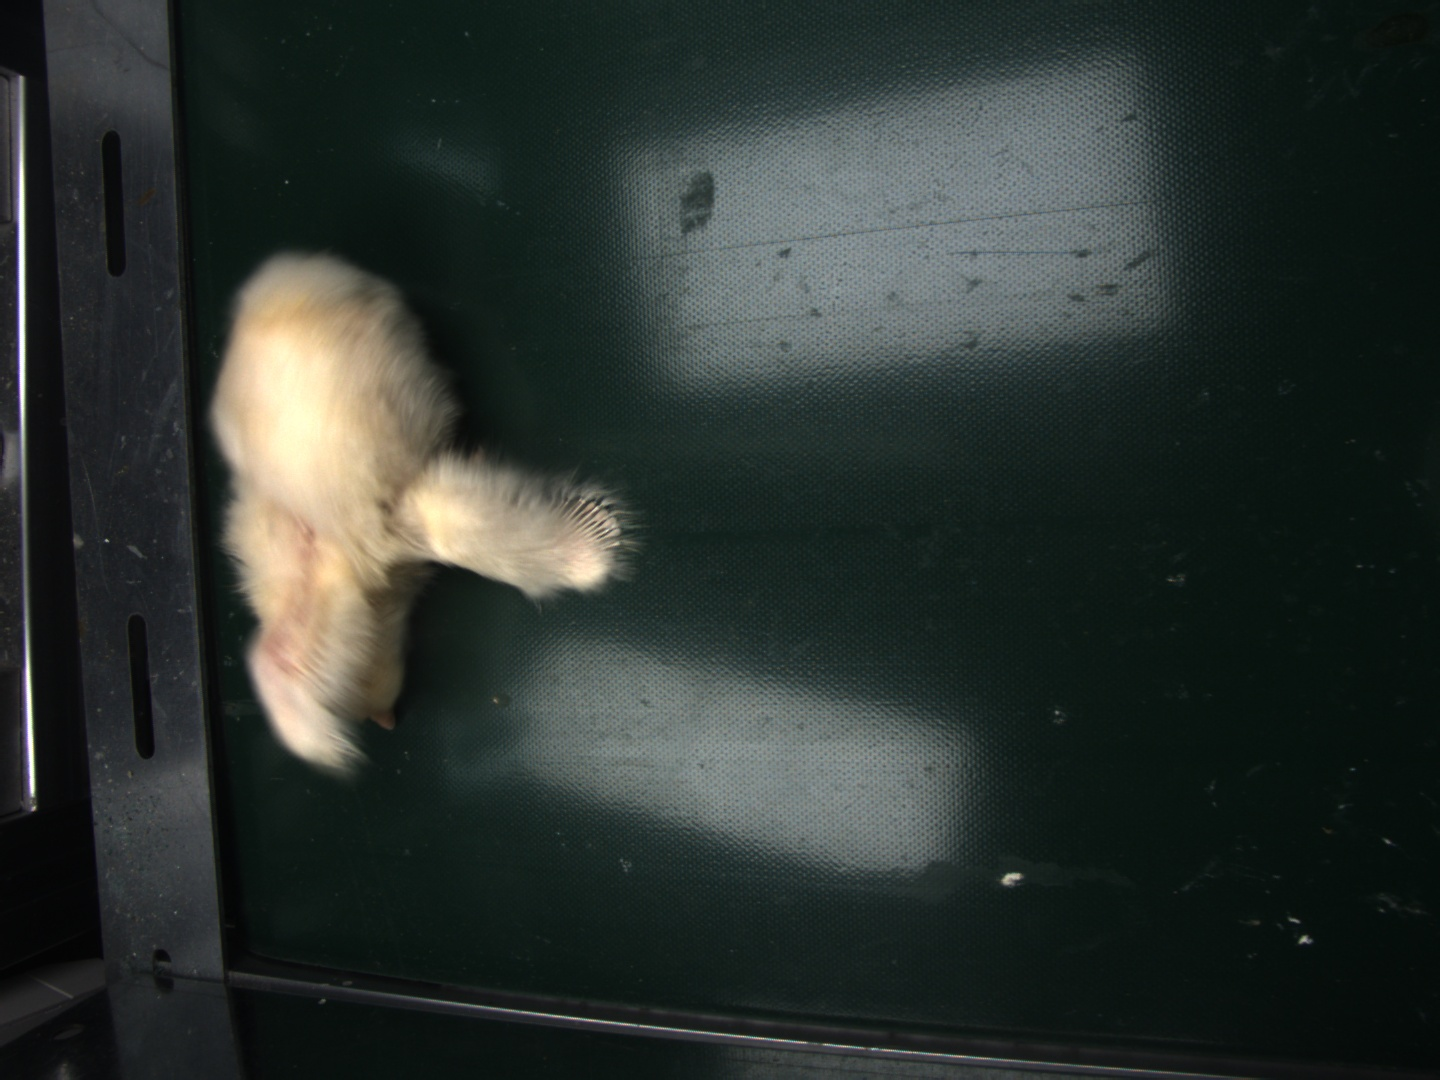male: (562, 489, 622, 556)
